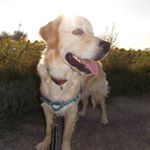puppy: (28, 11, 116, 150)
